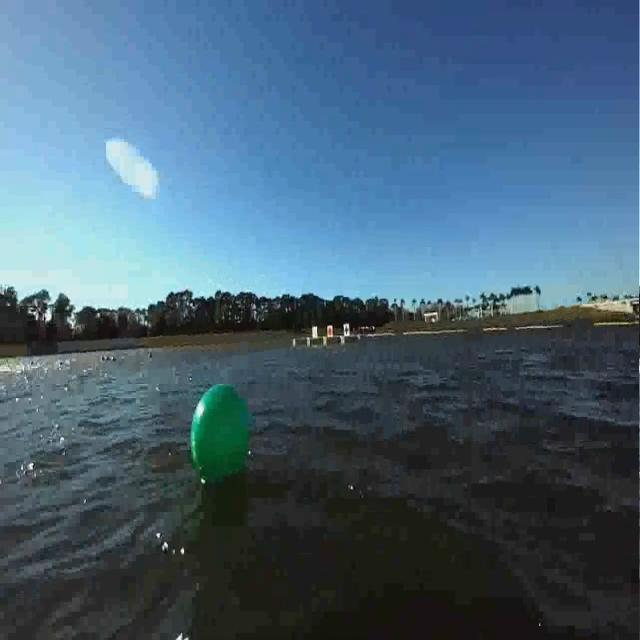green-buoy: (188, 381, 253, 488)
